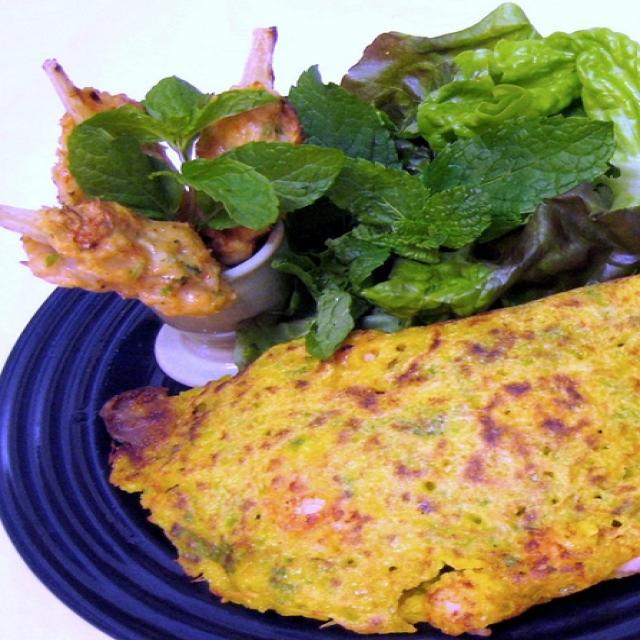炸货点心: (6, 12, 631, 620)
熟制海鲜: (6, 12, 631, 620)
